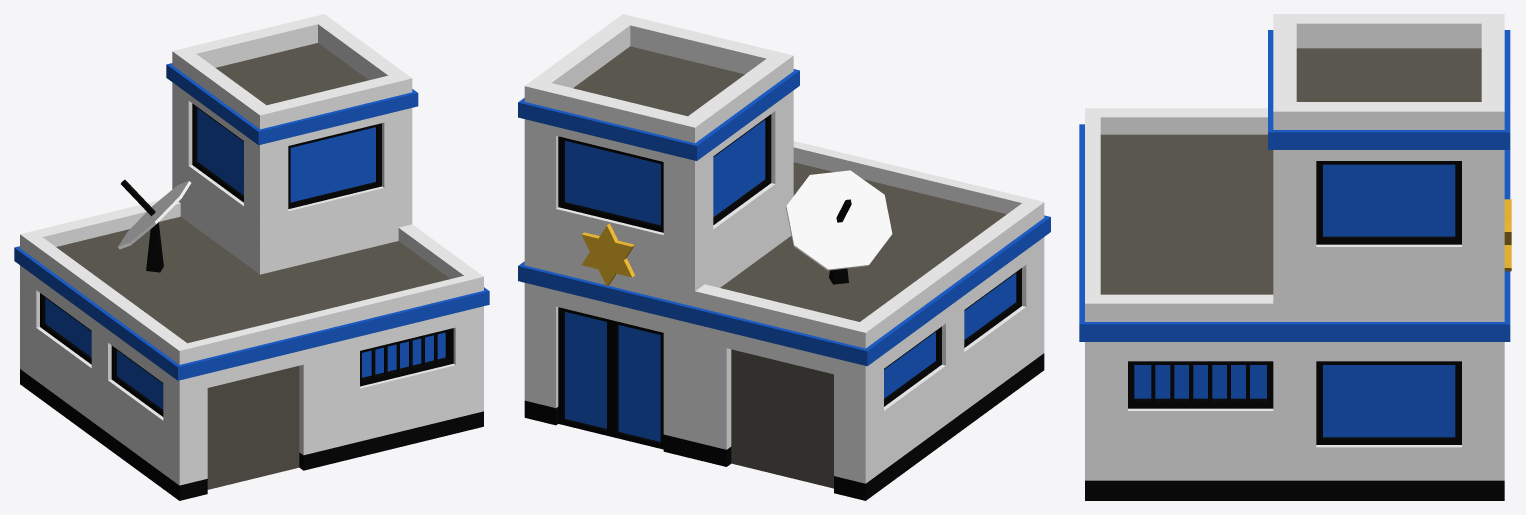
Rendered from CityBuildingPoliceStation.fbx.
3 views of the same model, side by side, from view 1: azimuth 30°, elevation 25°; view 2: azimuth 150°, elevation 25°; view 3: azimuth 270°, elevation 25° (orthographic). The views are drawn at different scales.
Parts seen in each view (by area): view 1: CityBuildingPoliceStation; view 2: CityBuildingPoliceStation; view 3: CityBuildingPoliceStation.
Part boxes in pixels (x1,y1,x2,y2): CityBuildingPoliceStation: (14,14,489,500); CityBuildingPoliceStation: (518,14,1050,500); CityBuildingPoliceStation: (1079,14,1511,500).
Size of the model in its own units: 0.8494 by 0.7703 by 0.7749.
